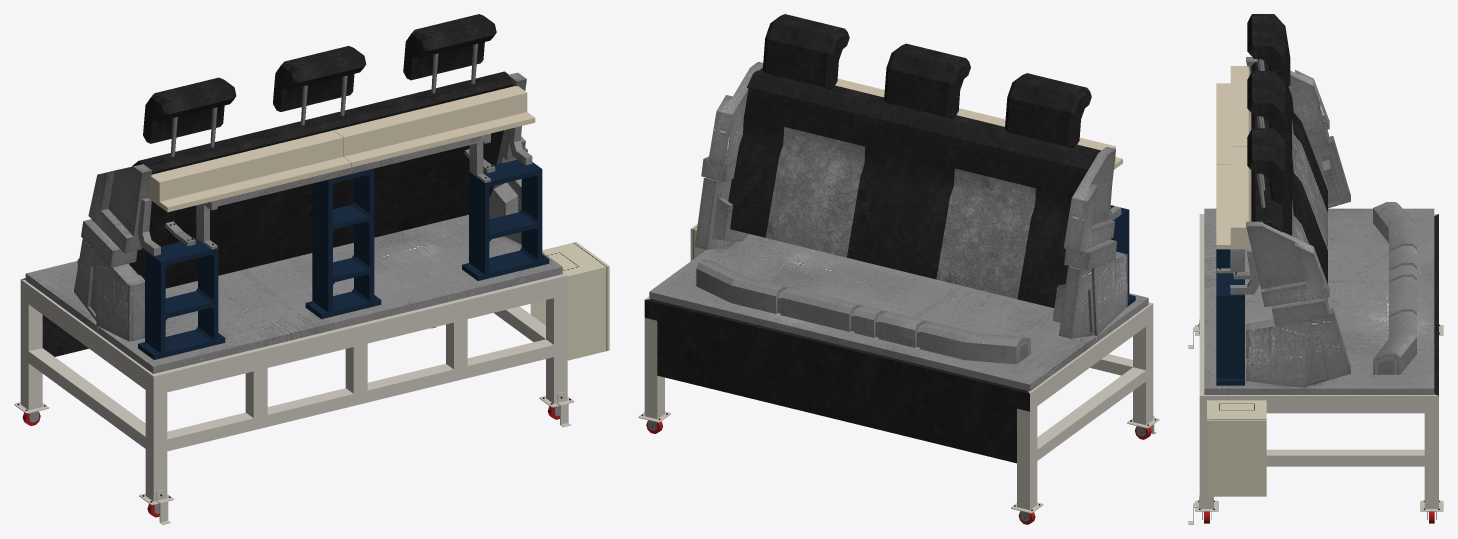
Rendered from caozuo06.FBX.
The picture shows the model from 3 angles, left to right: view 1: azimuth 30°, elevation 25°; view 2: azimuth 150°, elevation 25°; view 3: azimuth 270°, elevation 25°; orthographic projection. The views are drawn at different scales.
Visible parts, largest first — view 1: YF_Model_caozuo06; view 2: YF_Model_caozuo06; view 3: YF_Model_caozuo06.
Boxes of the visible parts, x1,y1,x2,y2 form: YF_Model_caozuo06: (14,14,609,524); YF_Model_caozuo06: (638,14,1159,524); YF_Model_caozuo06: (1188,14,1443,524).
Size of the model in its own units: 202 by 161 by 107.
